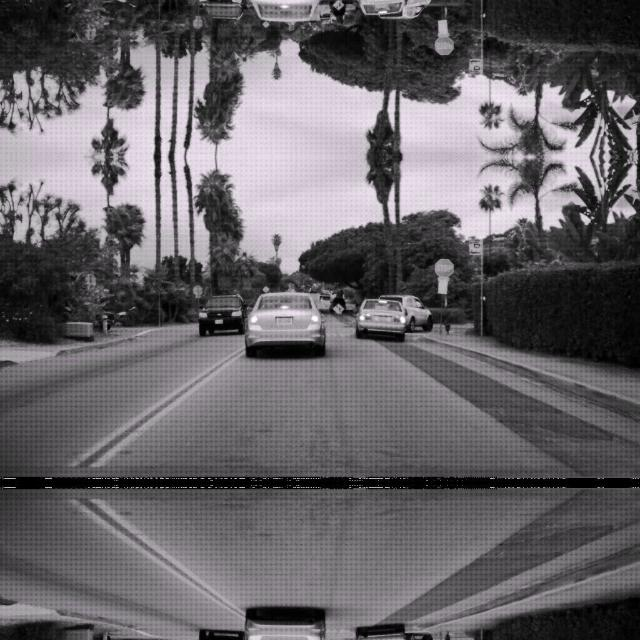stop: (434, 257, 454, 277), (434, 35, 454, 55)
